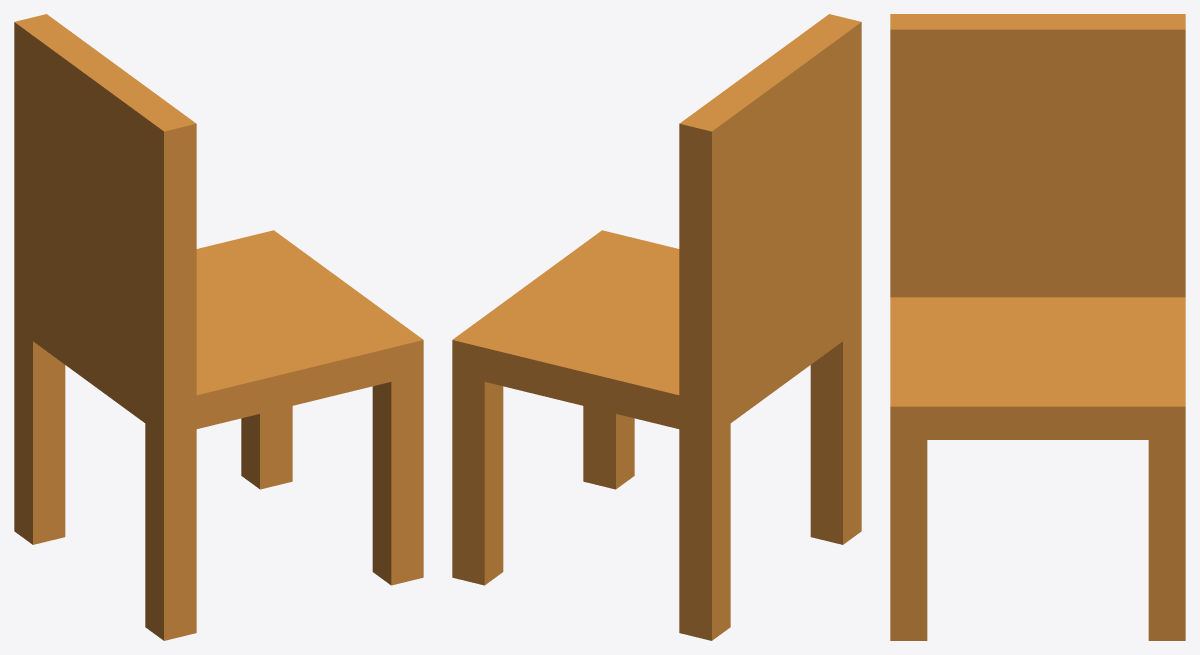
Rendered from chair 1.fbx.
3 renders of one model, left to right at view 1: azimuth 30°, elevation 25°; view 2: azimuth 150°, elevation 25°; view 3: azimuth 270°, elevation 25°, orthographic.
Parts seen in each view (by area): view 1: chair; view 2: chair; view 3: chair.
Part boxes in pixels (bbox=[...]): chair: bbox=[14, 14, 423, 640]; chair: bbox=[452, 14, 861, 640]; chair: bbox=[890, 14, 1185, 640].
Size of the model in its own units: 80 by 150 by 80.
